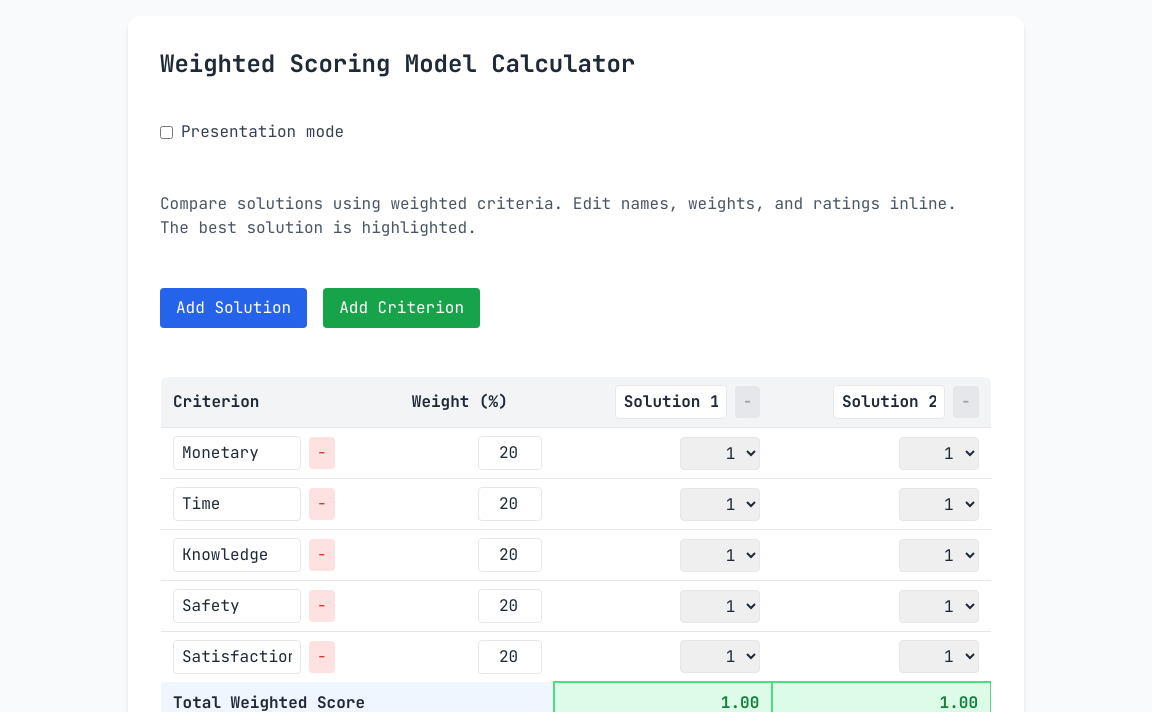
Test: WeightedScoringPanel user interactions › can add a solution
Click the button "Add Solution" at [234, 308], box [160,288,307,328]
(page scrolled)
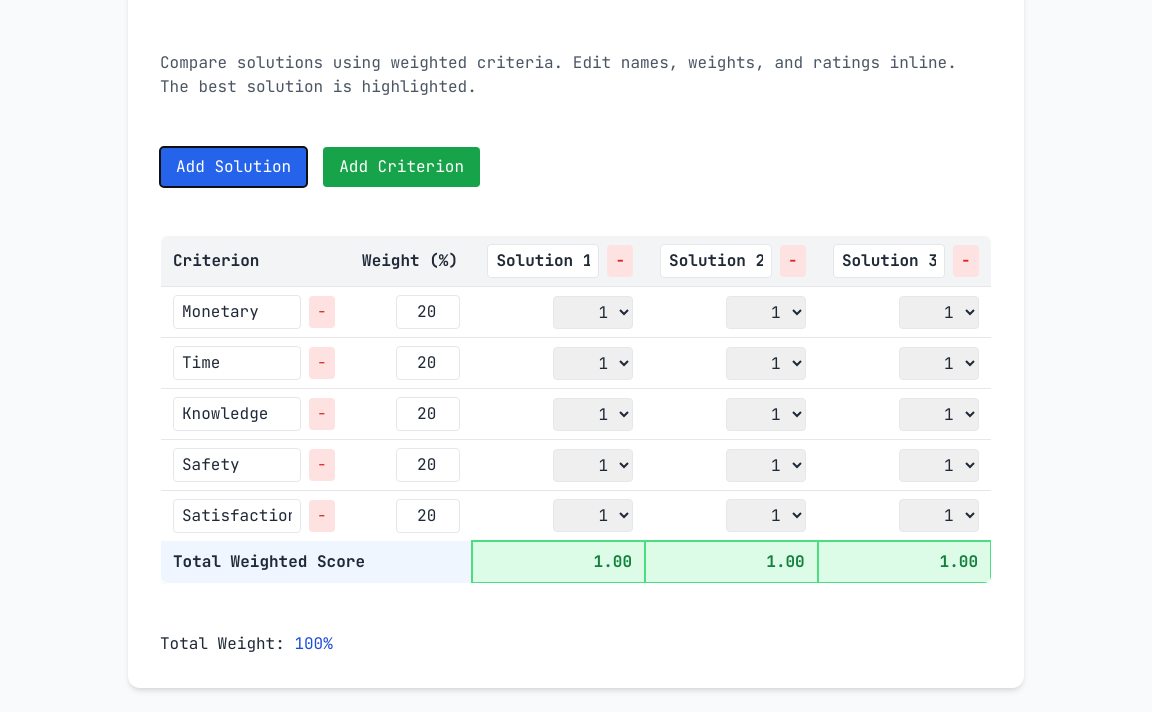
Expected: the cell with test id "score-solution-Solution 3" is shown, [818,541,991,583]
